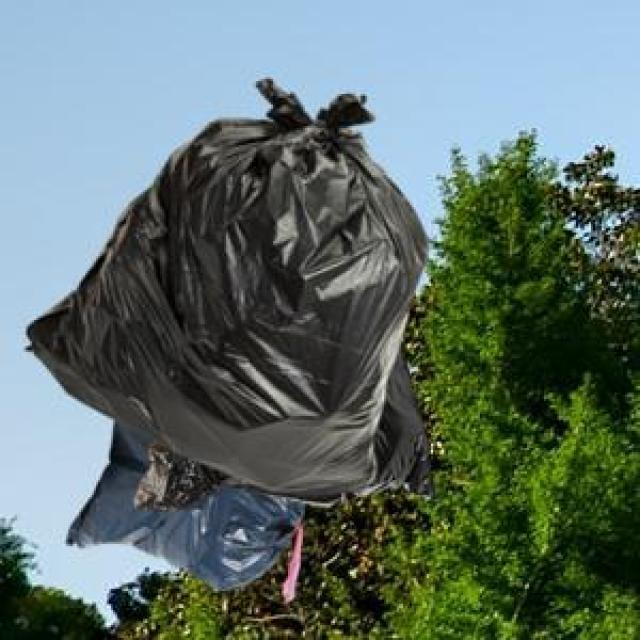Vinyl: (28, 80, 428, 589)
